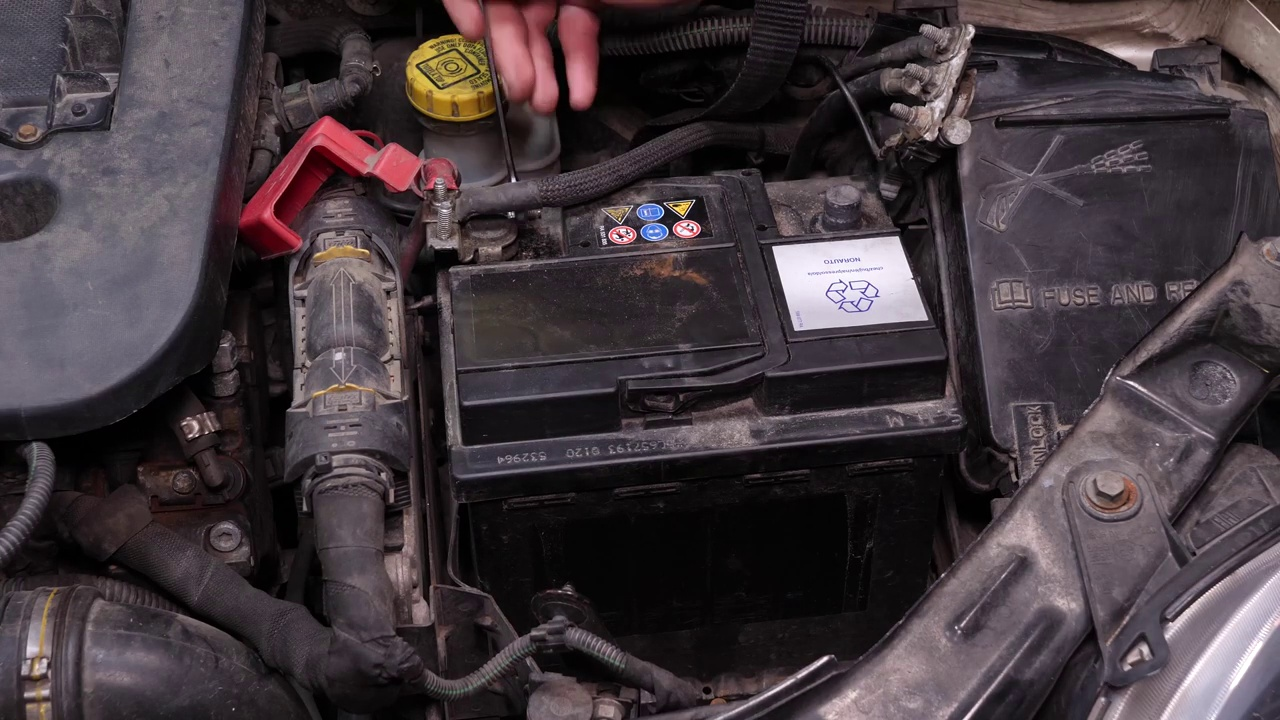battery: (403, 156, 948, 373)
neg_disconnected: (790, 167, 891, 234)
pos_connected: (320, 111, 468, 259)
